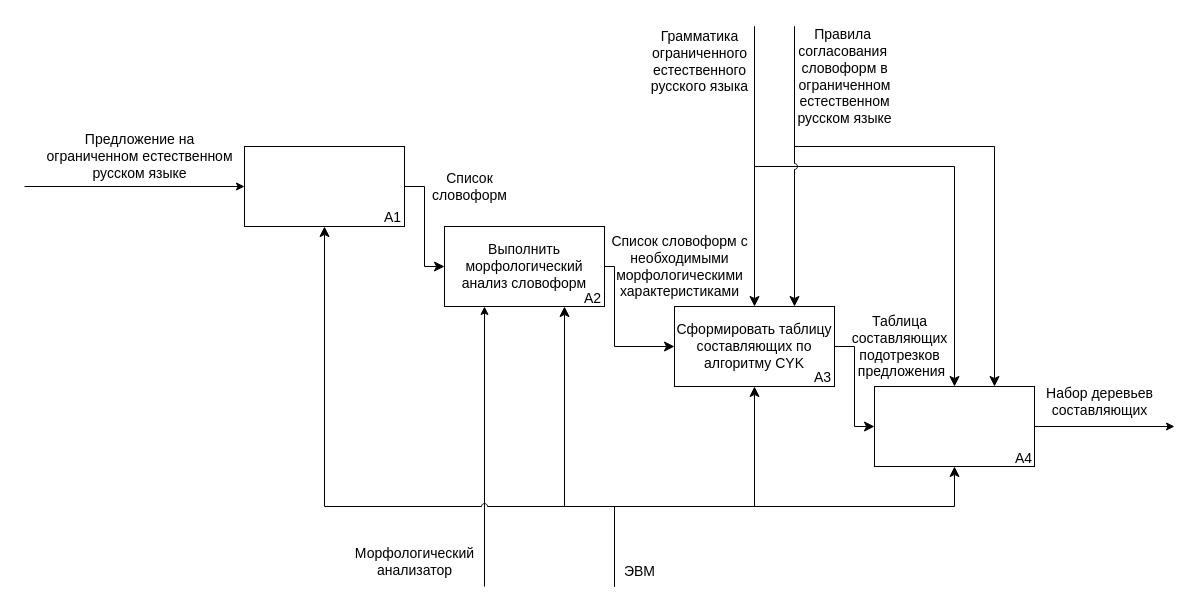
Image size: 1200x614. Some labels were removed from this diagram. Each missing label, with the box of its shape:
Извлечь деревья составляющих: (874, 386, 1034, 466)
Разбить предложение на словоформы: (244, 146, 404, 226)
